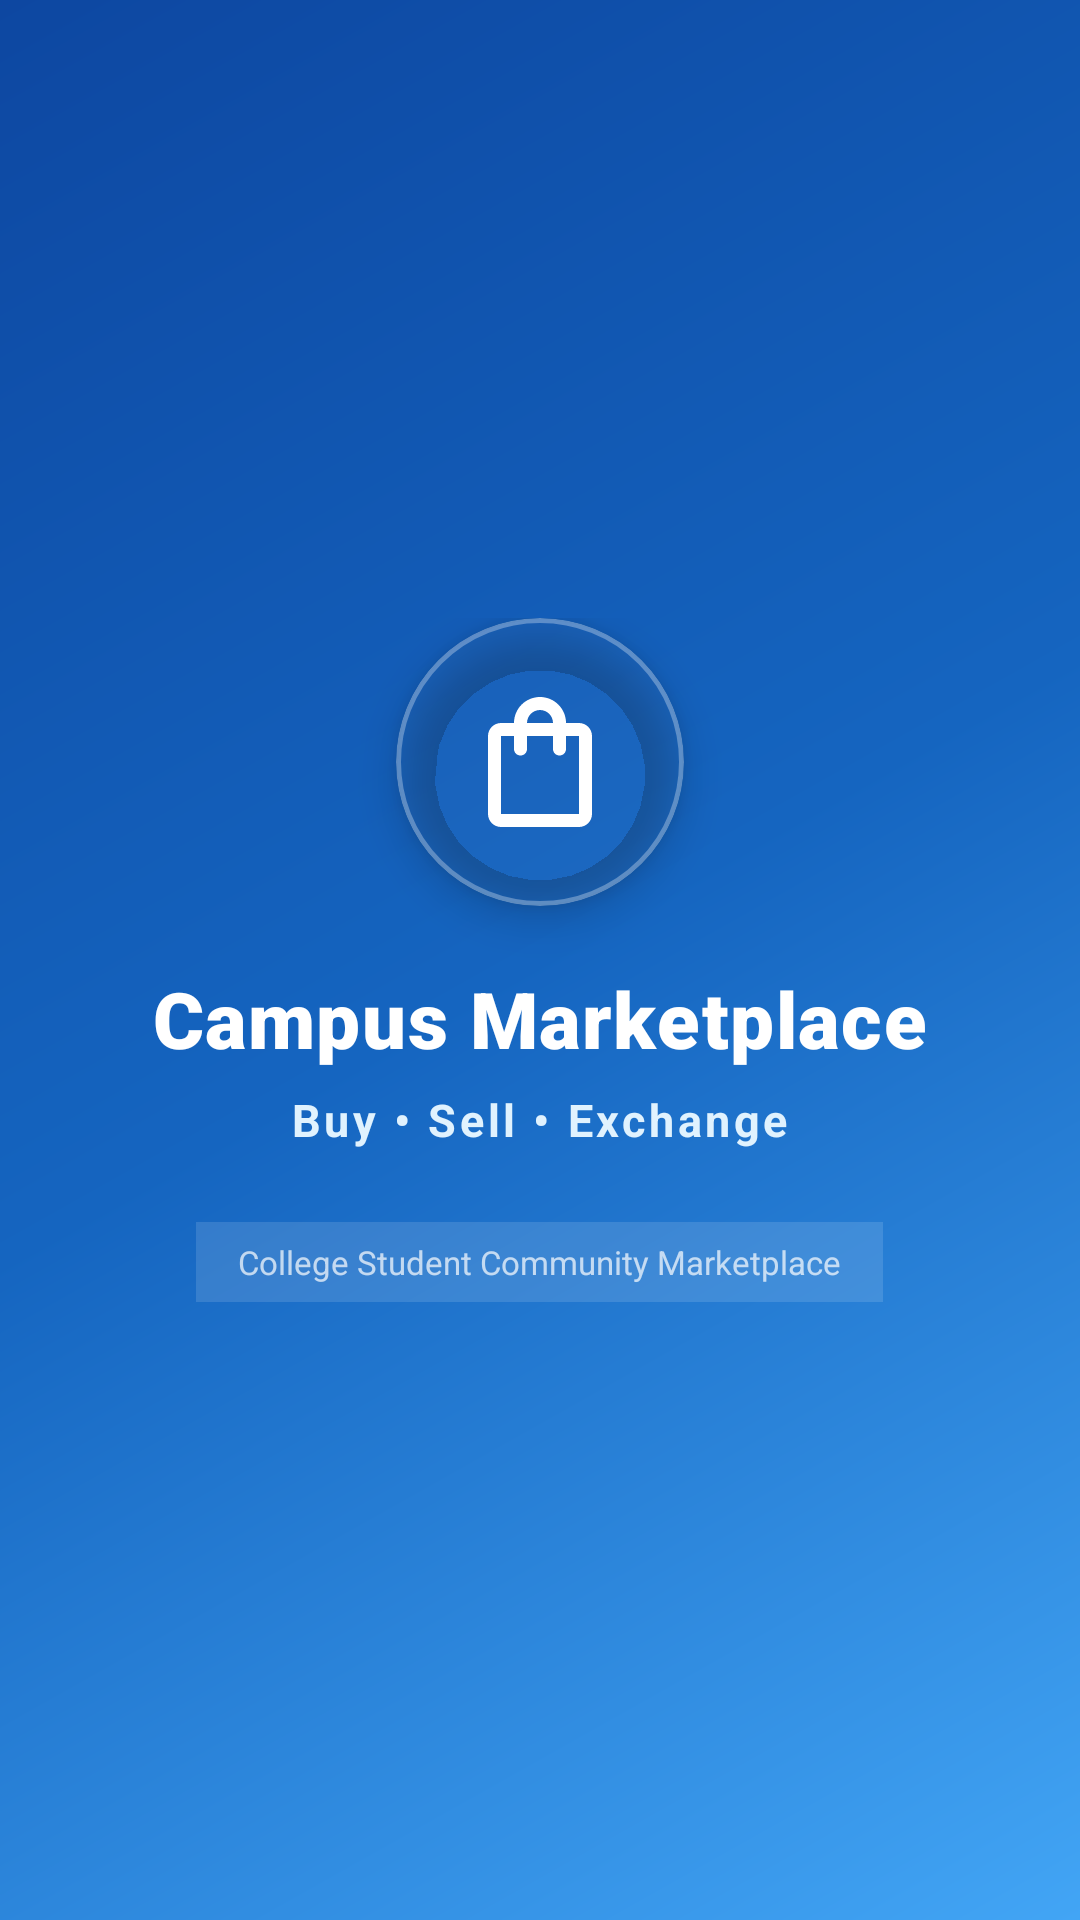

Locate icon controls on the screen. Image size 1080*1920, boxes as (x1, y1, x2, y2).
shopping bag: (488, 697, 592, 827)
